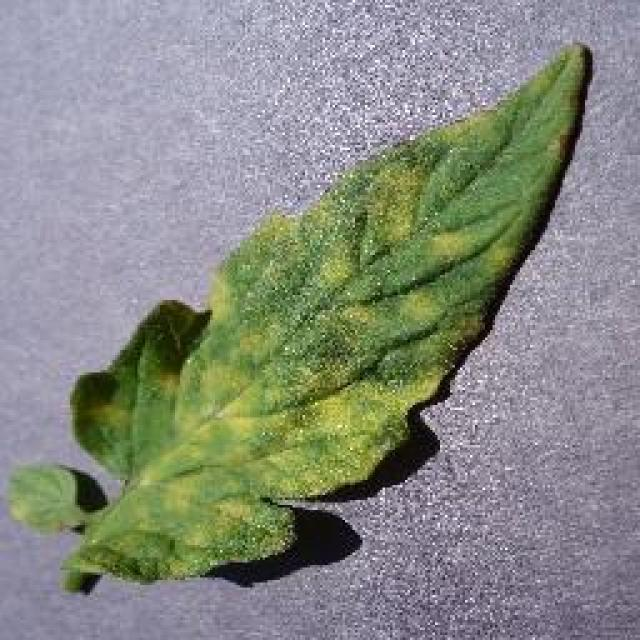Tomato mold leaf: (9, 38, 587, 587)
